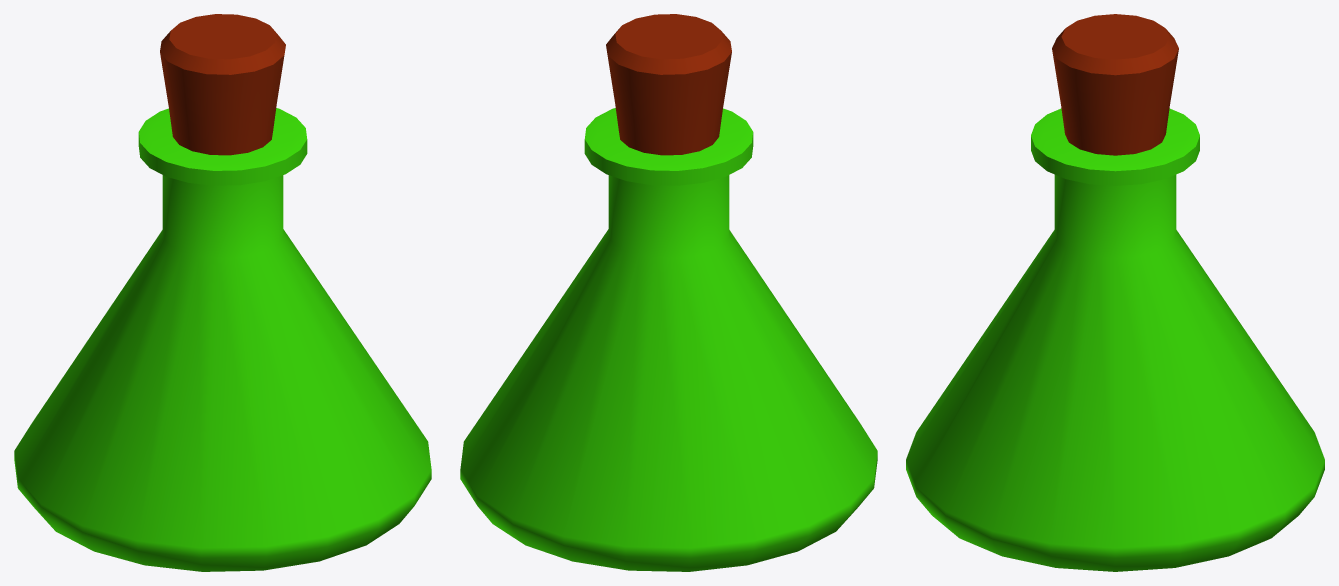
Rendered from GR_erlemeyer.fbx.
3 renders of one model, left to right at view 1: azimuth 30°, elevation 25°; view 2: azimuth 150°, elevation 25°; view 3: azimuth 270°, elevation 25°, orthographic.
Visible parts, largest first — view 1: Cylinder_1; view 2: Cylinder_1; view 3: Cylinder_1.
Boxes of the visible parts, bbox=[...] form: Cylinder_1: bbox=[14, 14, 431, 571]; Cylinder_1: bbox=[460, 14, 877, 571]; Cylinder_1: bbox=[906, 14, 1324, 571].
Bounding box in the file's own units: 24 × 28.68 × 24.
